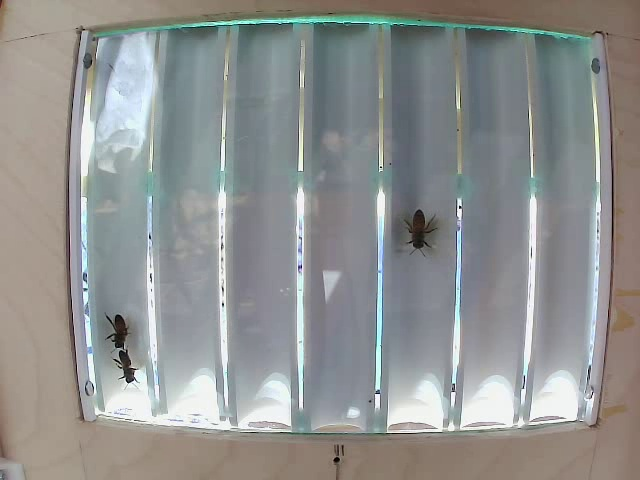bee: (398, 182, 448, 251), (103, 342, 140, 392), (102, 309, 136, 362)
